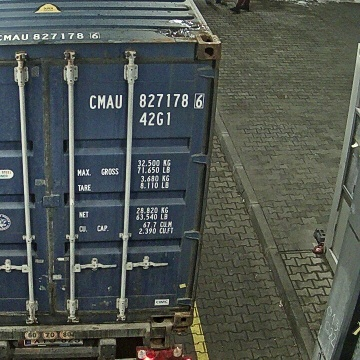serial_id: (89, 94, 202, 108)
